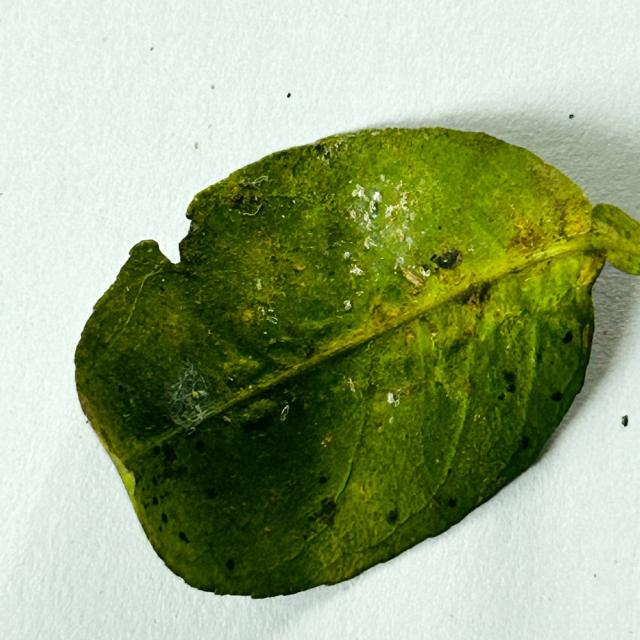Bacterial_Blight: (507, 205, 578, 255), (315, 209, 359, 257), (304, 494, 339, 533), (240, 406, 283, 436), (229, 184, 265, 216), (158, 445, 188, 482), (426, 248, 465, 276), (385, 380, 428, 403), (462, 281, 492, 309), (161, 441, 178, 465), (438, 466, 454, 490), (501, 370, 517, 390), (585, 322, 595, 350), (232, 192, 248, 206), (302, 344, 316, 358), (224, 376, 238, 389), (561, 330, 574, 344), (519, 436, 530, 452), (312, 143, 326, 155), (369, 201, 380, 216), (429, 254, 438, 262), (158, 285, 165, 293)
Lemon: (74, 125, 639, 602)
